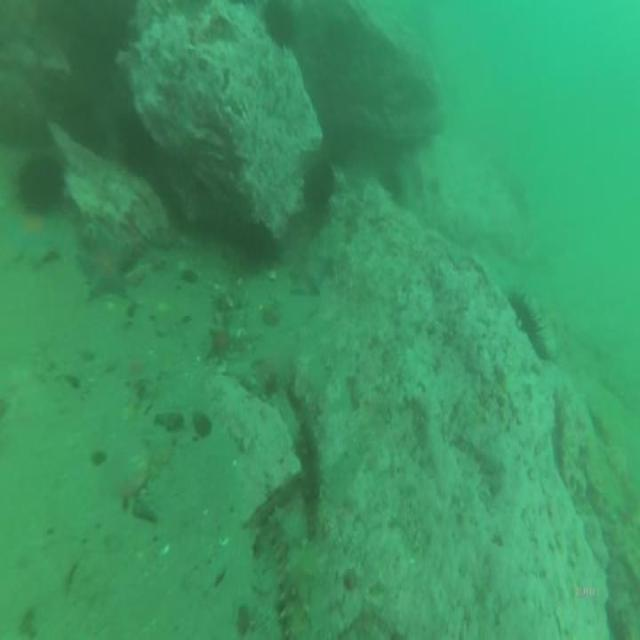echinus: (507, 284, 553, 374), (13, 147, 68, 221), (115, 106, 161, 182), (61, 96, 108, 158), (300, 154, 337, 216), (262, 0, 296, 58)
holothurian: (265, 505, 332, 640), (294, 409, 332, 542), (602, 512, 640, 640), (551, 379, 586, 490)
starfish: (76, 223, 138, 305), (285, 242, 335, 302), (0, 224, 60, 272), (203, 319, 240, 370)
